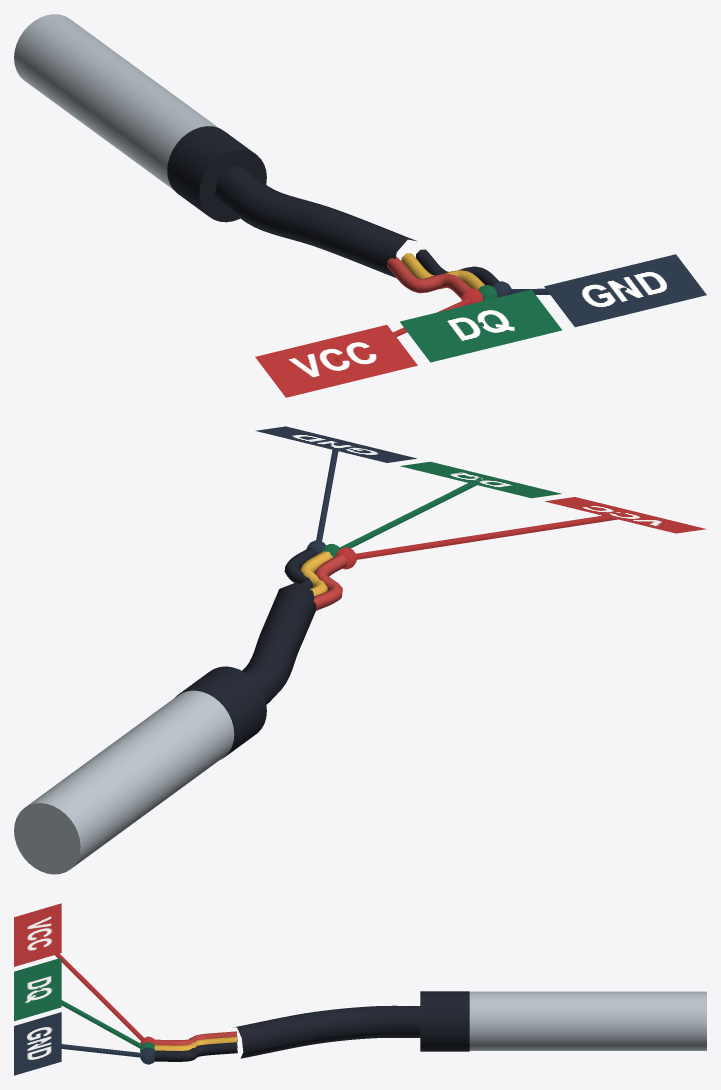
3 views of the same model, one above another, from view 1: azimuth 30°, elevation 25°; view 2: azimuth 150°, elevation 25°; view 3: azimuth 270°, elevation 25° (orthographic). The views are drawn at different scales.
Parts seen in each view (by area): view 1: ds18b20, GND, DQ, VCC, Terminal labels; view 2: ds18b20, Terminal labels, DQ, GND, VCC; view 3: ds18b20, DQ, GND, VCC, Terminal labels.
Part boxes in pixels (x1,y1,x2,y2): ds18b20: (14, 14, 499, 298); GND: (544, 254, 706, 327); DQ: (400, 289, 561, 362); VCC: (255, 325, 417, 397); Terminal labels: (334, 281, 626, 362); ds18b20: (14, 547, 347, 874); Terminal labels: (306, 442, 625, 569); DQ: (400, 461, 561, 498); GND: (255, 426, 416, 462); VCC: (545, 497, 706, 533); ds18b20: (154, 991, 706, 1061); DQ: (14, 957, 61, 1021); GND: (14, 1012, 61, 1075); VCC: (14, 903, 61, 966); Terminal labels: (36, 933, 154, 1064).
Bounding box in the file's own units: 0.0379 × 0.0074 × 0.0701.
10 materials, 3 textured.
